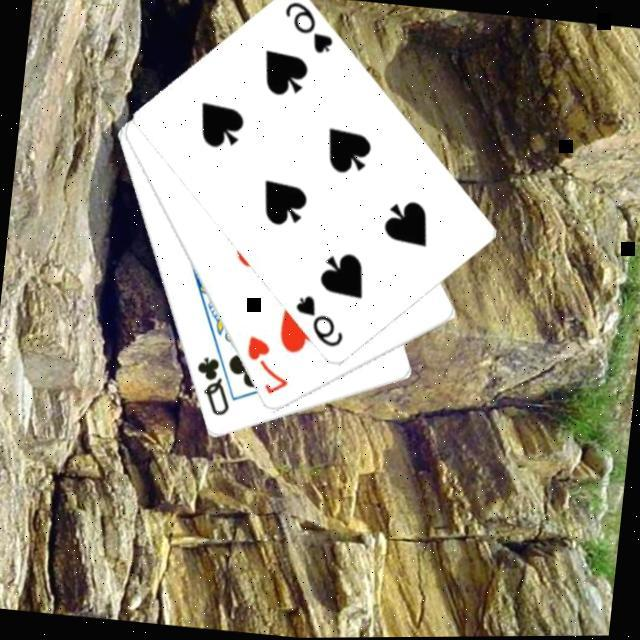6S: (289, 291, 352, 353), (278, 0, 342, 60)
7H: (240, 332, 296, 402)
QC: (190, 353, 238, 422)
